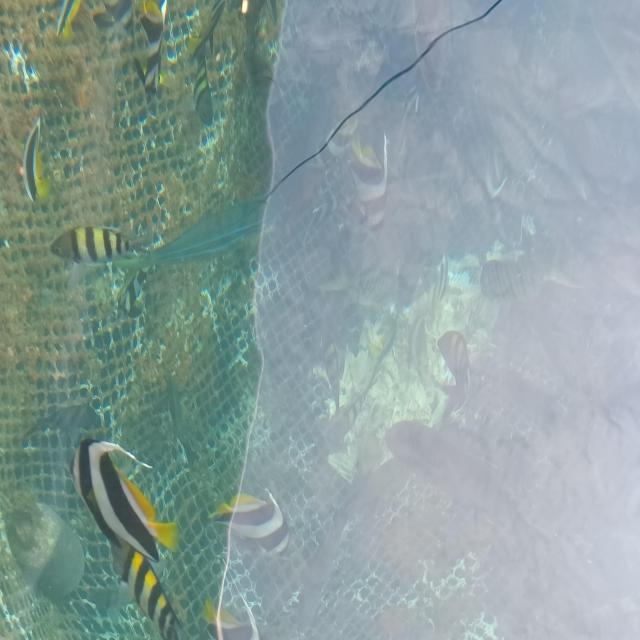ikan: (67, 436, 179, 564), (114, 538, 183, 639), (207, 489, 290, 556), (50, 224, 157, 268), (430, 328, 471, 424), (19, 114, 51, 204), (201, 596, 257, 639), (191, 56, 215, 126)
